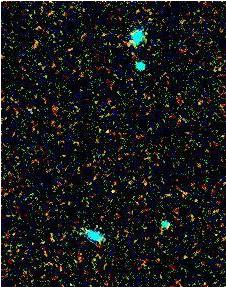star: (99, 176, 129, 206)
